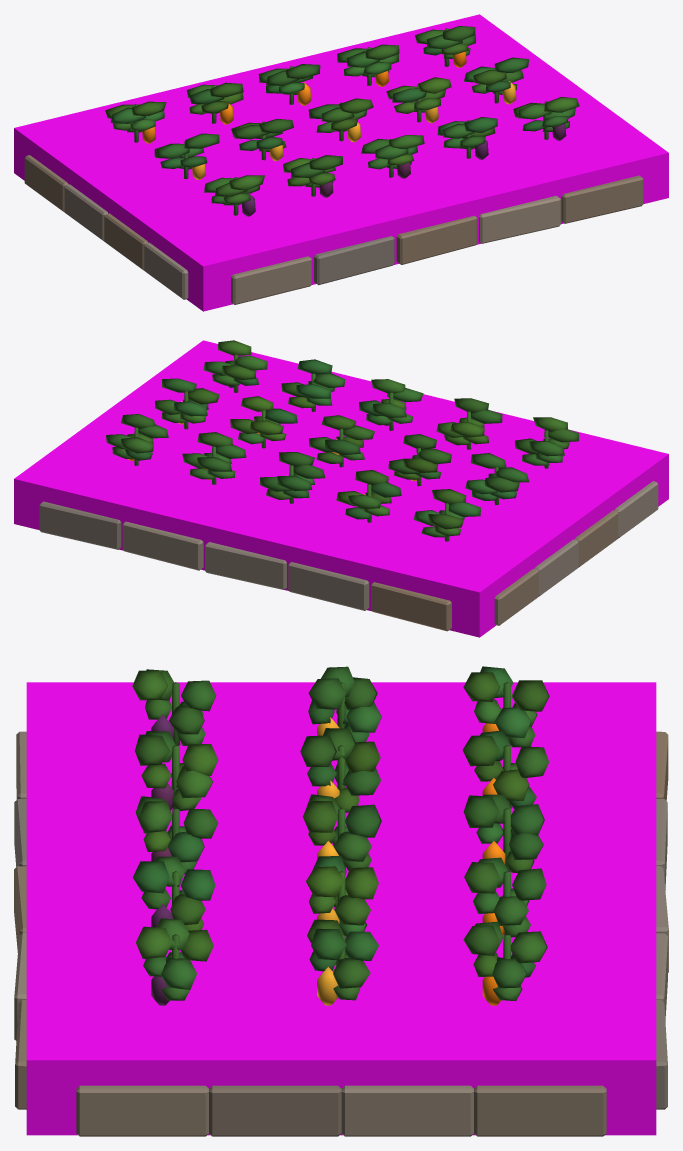
The model's file is ENV_Garden_Plot_A.glb.
The picture shows the model from 3 angles, top to bottom: view 1: azimuth 30°, elevation 25°; view 2: azimuth 150°, elevation 25°; view 3: azimuth 270°, elevation 25°; orthographic projection. The views are drawn at different scales.
Parts seen in each view (by area): view 1: COL_Plot, STATE_ripe, ENV_Garden_Plot_A_Mesh, STATE_growing; view 2: COL_Plot, STATE_ripe, ENV_Garden_Plot_A_Mesh, STATE_growing; view 3: COL_Plot, STATE_ripe, ENV_Garden_Plot_A_Mesh, STATE_growing.
Part boxes in pixels (bbox=[...]): COL_Plot: bbox=[14, 14, 668, 311]; STATE_ripe: bbox=[105, 26, 579, 216]; ENV_Garden_Plot_A_Mesh: bbox=[24, 155, 643, 304]; STATE_growing: bbox=[113, 43, 569, 205]; COL_Plot: bbox=[14, 340, 668, 637]; STATE_ripe: bbox=[106, 340, 578, 541]; ENV_Garden_Plot_A_Mesh: bbox=[39, 481, 658, 631]; STATE_growing: bbox=[112, 360, 569, 537]; COL_Plot: bbox=[26, 682, 656, 1135]; STATE_ripe: bbox=[132, 666, 549, 1005]; ENV_Garden_Plot_A_Mesh: bbox=[14, 731, 668, 1136]; STATE_growing: bbox=[141, 699, 537, 1001].
Size of the model in its own units: 2.76 by 0.4896 by 1.98.
